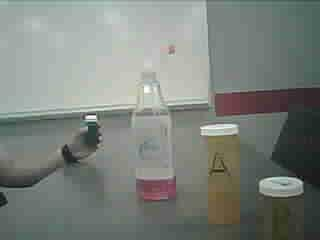Bottle A: (199, 114, 244, 232)
Bottle B: (254, 174, 308, 240)
Bottle C: (82, 109, 105, 157)
hazard: (123, 39, 183, 207)
